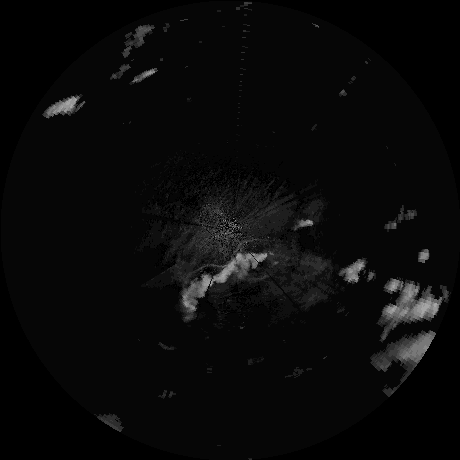frontgust: (181, 262, 221, 291), (233, 235, 265, 259)
